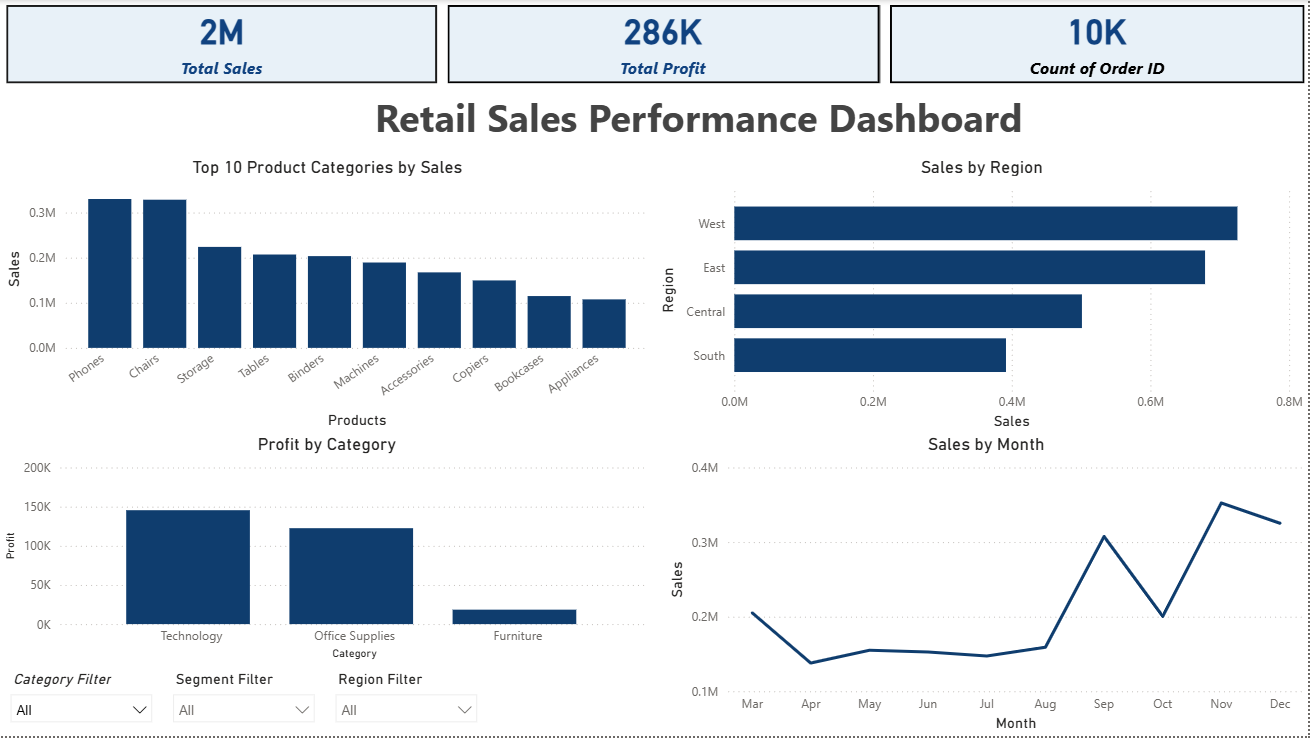

This screenshot's page, from the dashboard's own definition file:
{"tool":"powerbi","page":{"name":"Page 1","canvas":[1280,720],"ordinal":0},"visuals":[{"type":"advanceCardE03760C5AB684758B56AA29F9E6C257B","title":"Total Sales","fields":{"mainMeasure":["Sum(Sample - Superstore.Sales)"]},"box":[0.6,0.4,431.7,86.8],"z":0},{"type":"advanceCardE03760C5AB684758B56AA29F9E6C257B","fields":{"mainMeasure":["Sum(Sample - Superstore.Profit)"]},"box":[432.3,0.4,432.9,86.8],"z":1000},{"type":"advanceCardE03760C5AB684758B56AA29F9E6C257B","fields":{"mainMeasure":["CountNonNull(Sample - Superstore.Order ID)"]},"box":[865.2,0.4,415.8,86.8],"z":2000},{"type":"clusteredColumnChart","title":"Top 10 Product Categories by Sales","fields":{"Category":["Sample - Superstore.Sub-Category"],"Y":["Sum(Sample - Superstore.Sales)"]},"box":[1.2,152.9,638.3,271.5],"z":3000},{"type":"clusteredBarChart","title":"Sales by Region","fields":{"Category":["Sample - Superstore.Region"],"Y":["Sum(Sample - Superstore.Sales)"]},"box":[640.8,152.9,639.5,272.7],"z":4000},{"type":"lineChart","fields":{"Category":["Sample - Superstore.Month"],"Y":["Sum(Sample - Superstore.Sales)"]},"box":[649.3,424.3,631,295.9],"z":5000},{"type":"slicer","fields":{"Values":["Sample - Superstore.Region"]},"box":[317.9,650.5,159,69.7],"z":6000},{"type":"slicer","fields":{"Values":["Sample - Superstore.Category"]},"box":[0,650.5,159,69.7],"z":7000},{"type":"slicer","fields":{"Values":["Sample - Superstore.Segment"]},"box":[159,650.5,159,69.7],"z":8000},{"type":"columnChart","fields":{"Category":["Sample - Superstore.Category"],"Y":["Sum(Sample - Superstore.Profit)"]},"box":[0,424.3,639.5,226.2],"z":9000},{"type":"textbox","box":[269,84.4,829.1,68.5],"z":10000}]}

Visuals, with their boxes in screenshot pixels (x1, y1, x2, y2), scaled from the page's 1280x720 canvas onto the 1310x738 screenshot:
"Total Sales" advanceCardE03760C5AB684758B56AA29F9E6C257B: {"left": 1, "top": 0, "right": 442, "bottom": 89}
advanceCardE03760C5AB684758B56AA29F9E6C257B - Sum(Sample - Superstore.Profit): {"left": 442, "top": 0, "right": 885, "bottom": 89}
advanceCardE03760C5AB684758B56AA29F9E6C257B - CountNonNull(Sample - Superstore.Order ID): {"left": 885, "top": 0, "right": 1309, "bottom": 89}
"Top 10 Product Categories by Sales" clusteredColumnChart: {"left": 1, "top": 157, "right": 654, "bottom": 435}
"Sales by Region" clusteredBarChart: {"left": 656, "top": 157, "right": 1309, "bottom": 436}
lineChart - Sample - Superstore.Month x Sum(Sample - Superstore.Sales): {"left": 665, "top": 435, "right": 1309, "bottom": 737}
slicer - Sample - Superstore.Region: {"left": 325, "top": 667, "right": 488, "bottom": 737}
slicer - Sample - Superstore.Category: {"left": 0, "top": 667, "right": 163, "bottom": 737}
slicer - Sample - Superstore.Segment: {"left": 163, "top": 667, "right": 325, "bottom": 737}
columnChart - Sample - Superstore.Category x Sum(Sample - Superstore.Profit): {"left": 0, "top": 435, "right": 654, "bottom": 667}
textbox: {"left": 275, "top": 87, "right": 1124, "bottom": 157}
